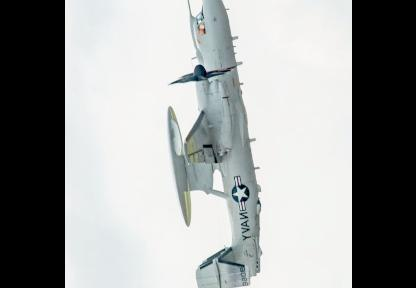C5: (166, 0, 263, 287)
